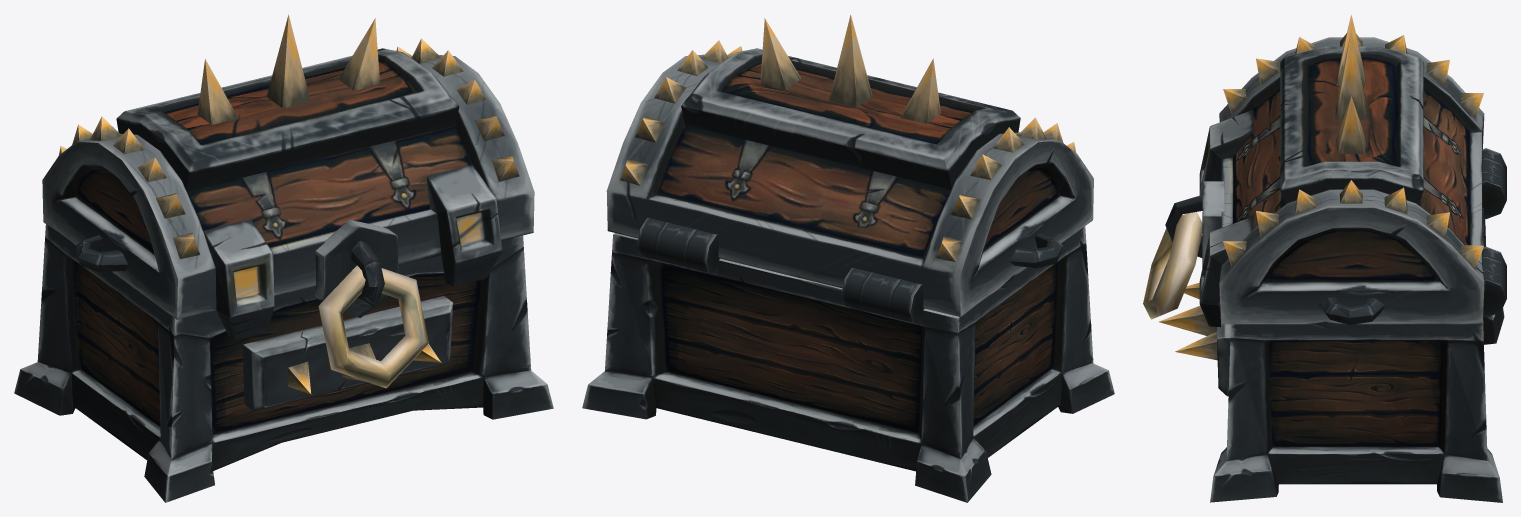
Rendered from chest_1_skull.FBX.
3 views of the same model, side by side, from view 1: azimuth 30°, elevation 25°; view 2: azimuth 150°, elevation 25°; view 3: azimuth 270°, elevation 25° (orthographic). The views are drawn at different scales.
Parts seen in each view (by area): view 1: Chest_1_cap, Chest; view 2: Chest_1_cap, Chest; view 3: Chest_1_cap, Chest.
Boxes of the visible parts, left/top/right/bottom form: Chest_1_cap: left=42, top=14, right=534, bottom=388; Chest: left=14, top=224, right=553, bottom=502; Chest_1_cap: left=606, top=14, right=1093, bottom=317; Chest: left=582, top=218, right=1114, bottom=502; Chest_1_cap: left=1143, top=14, right=1484, bottom=327; Chest: left=1159, top=148, right=1506, bottom=502.
Size of the model in its own units: 103 by 91.47 by 79.23.
